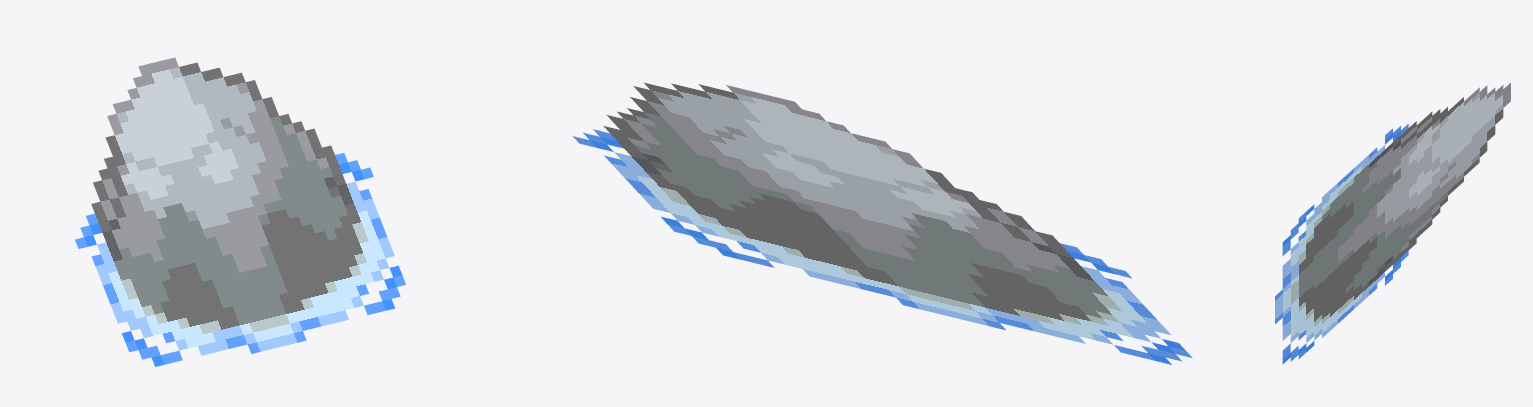
3 views of the same model, side by side, from view 1: azimuth 30°, elevation 25°; view 2: azimuth 150°, elevation 25°; view 3: azimuth 270°, elevation 25° (orthographic). The views are drawn at different scales.
Size of the model in its own units: 2 by 1.41 by 1.41.
1 material, 1 textured.
